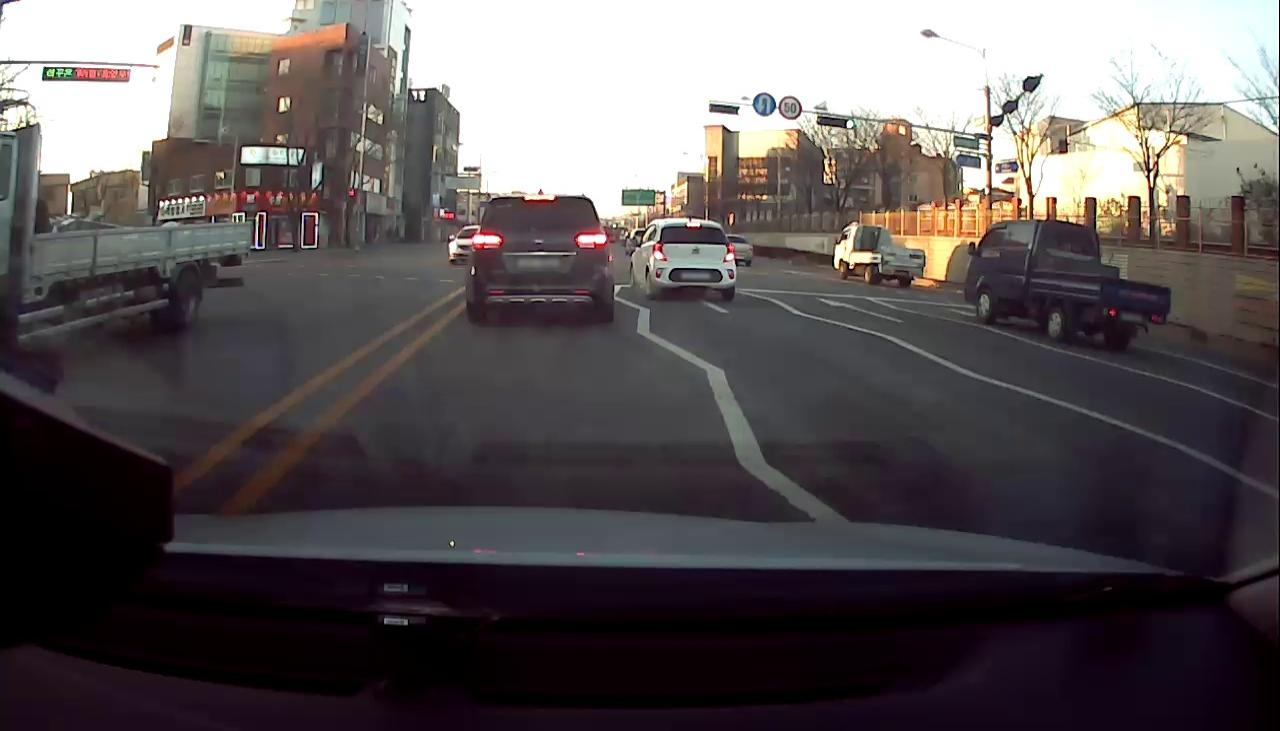Green Light: (736, 104, 747, 117), (844, 118, 855, 129)
